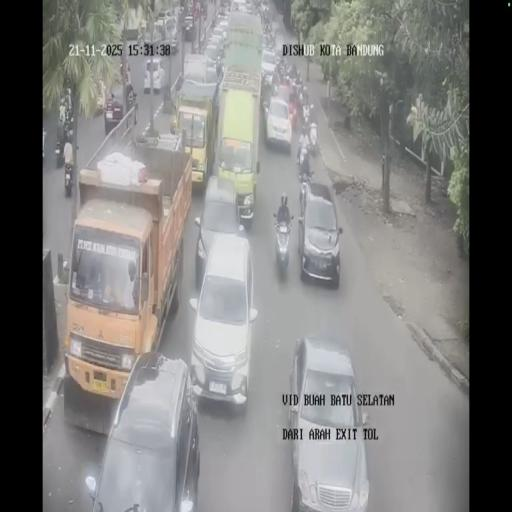car: (188, 232, 258, 406), (298, 182, 342, 286), (104, 82, 138, 134), (264, 95, 292, 152), (203, 42, 224, 79), (144, 57, 166, 92), (215, 9, 230, 34), (152, 20, 164, 45), (169, 28, 178, 54), (162, 10, 174, 27), (184, 14, 194, 32), (238, 0, 250, 14), (261, 0, 269, 15)
motorcycle: (272, 196, 293, 272), (297, 149, 311, 182), (54, 122, 64, 168), (308, 117, 319, 156), (261, 73, 272, 108), (64, 162, 73, 196), (63, 118, 74, 145), (270, 74, 280, 96), (300, 82, 309, 106), (308, 101, 314, 121)
truck: (64, 134, 191, 414), (214, 83, 260, 225), (173, 80, 218, 192), (222, 6, 264, 82), (122, 5, 143, 43)
